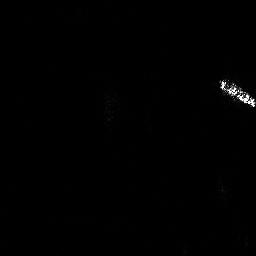ship: (216, 75, 256, 110)
